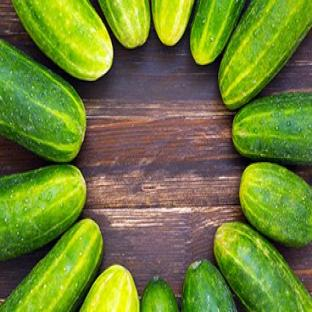Cucumber: (0, 40, 86, 162), (0, 219, 103, 311), (214, 222, 311, 311), (0, 165, 86, 260), (240, 163, 311, 247), (233, 94, 311, 164), (182, 260, 236, 311), (81, 265, 139, 311), (140, 277, 178, 311)
